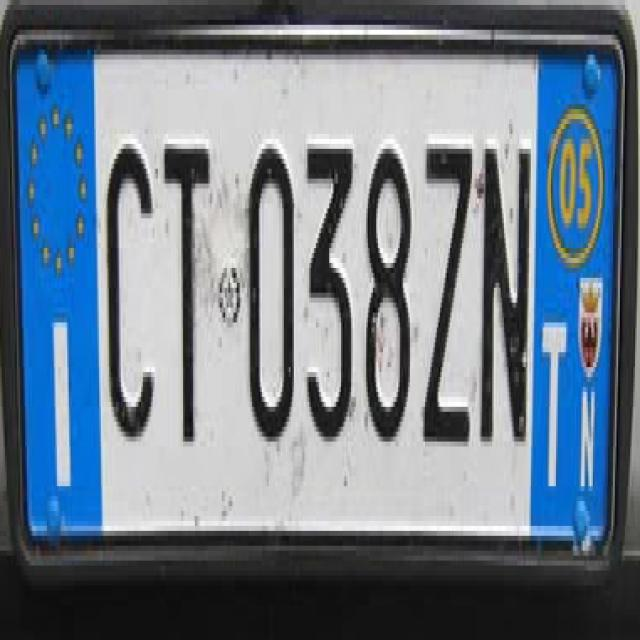EU: (12, 43, 624, 555)
Italie: (15, 53, 100, 532)
